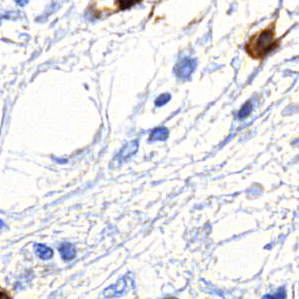Lymphocyte: (245, 24, 280, 56)
